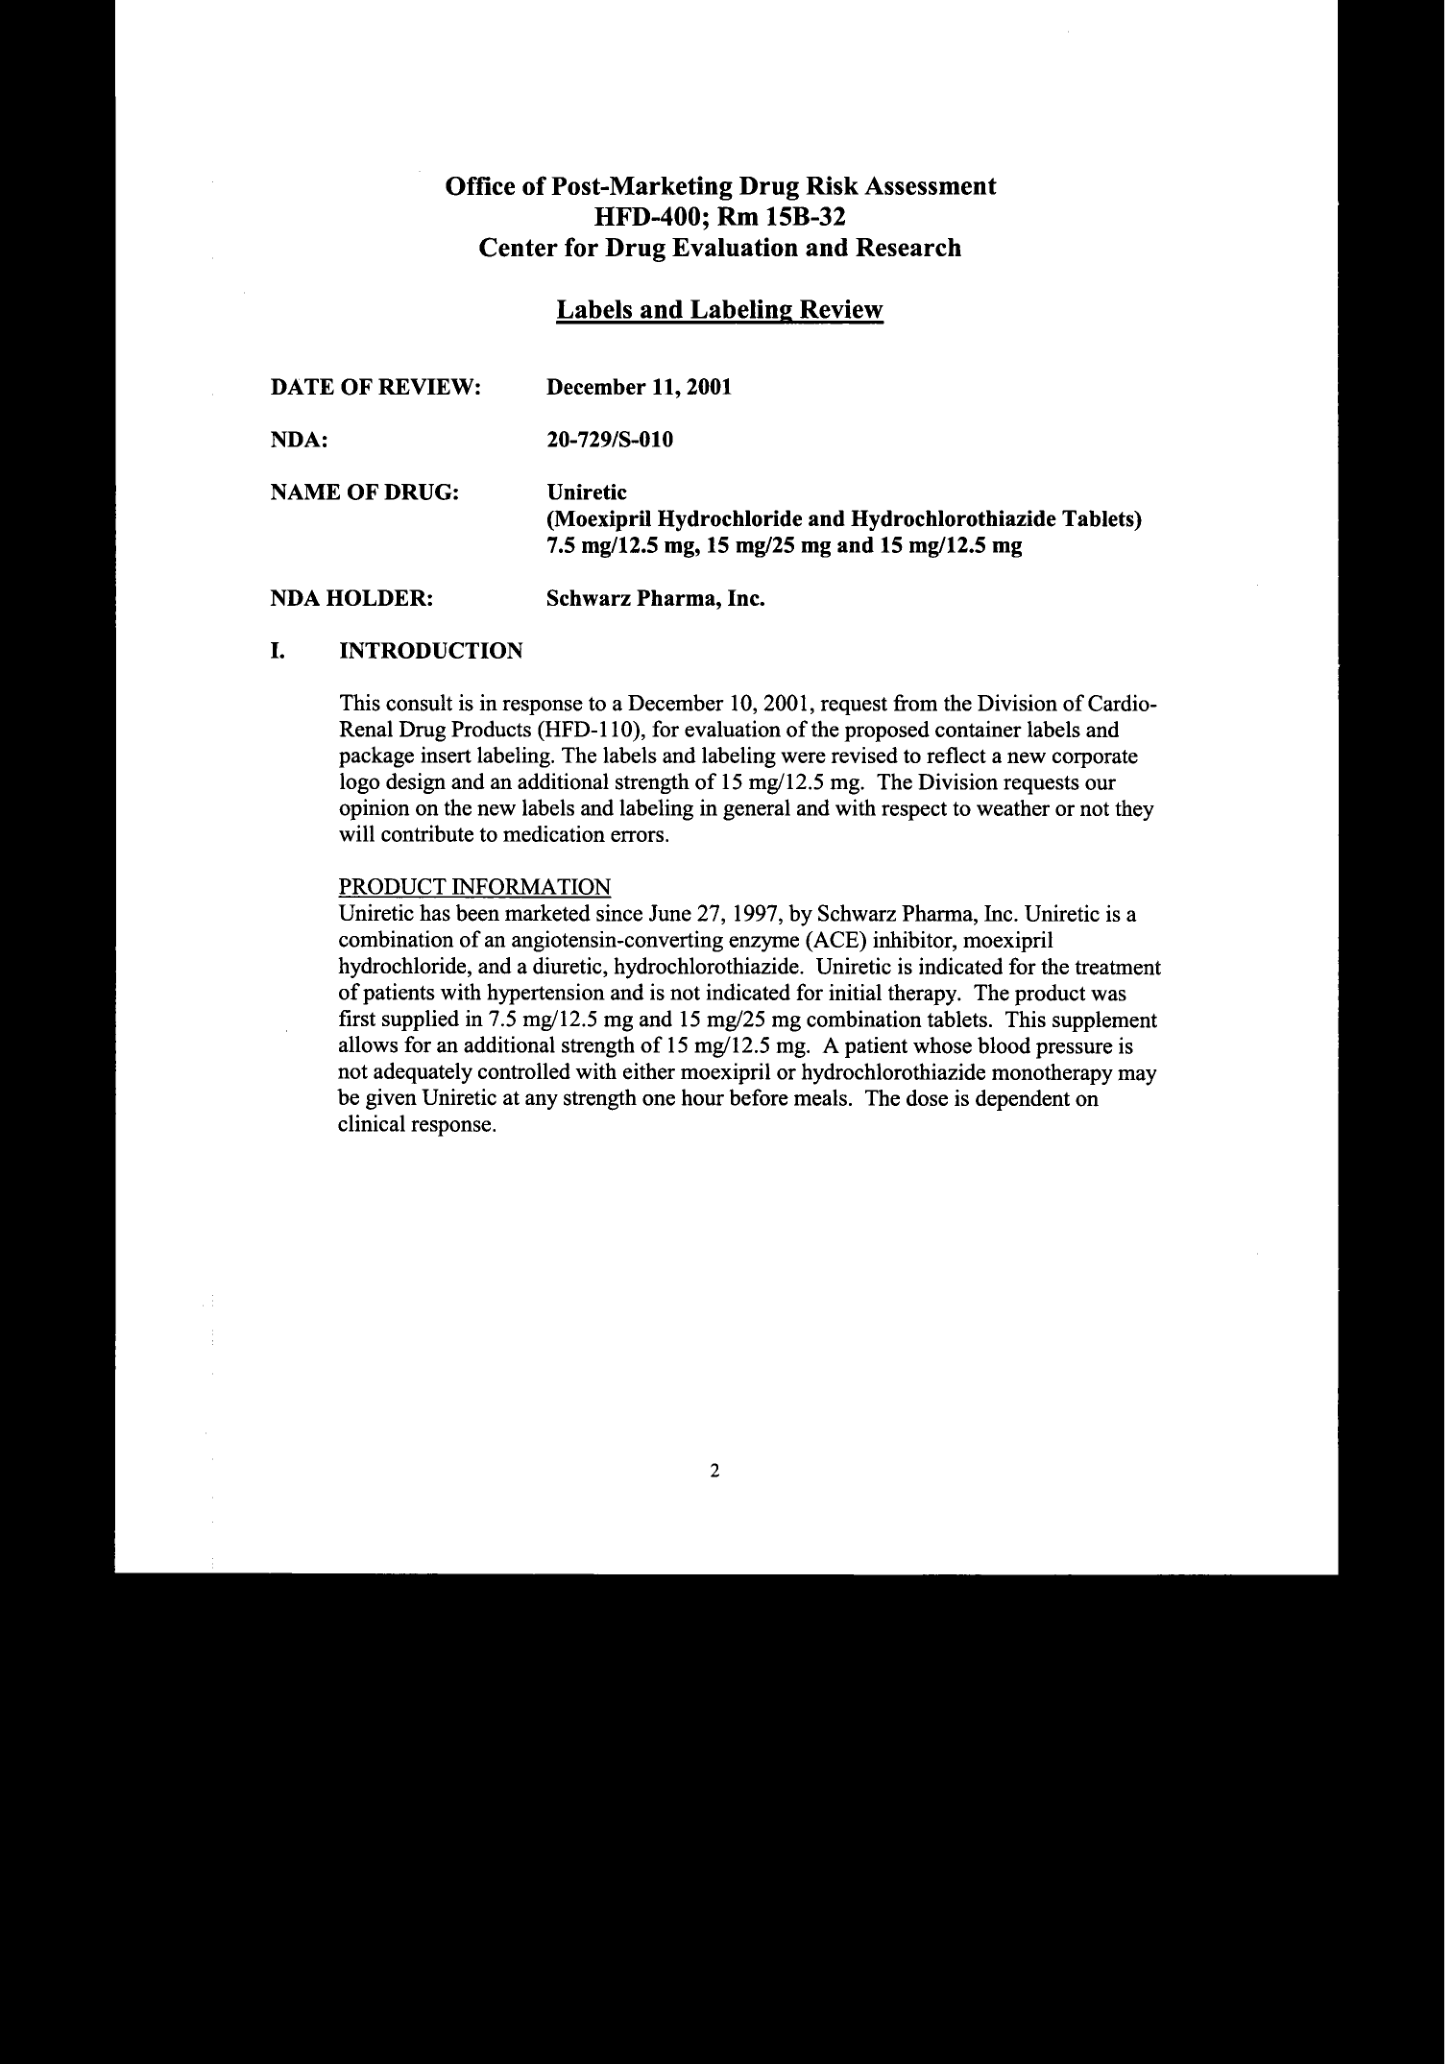nolines: (269, 372, 1146, 609)
